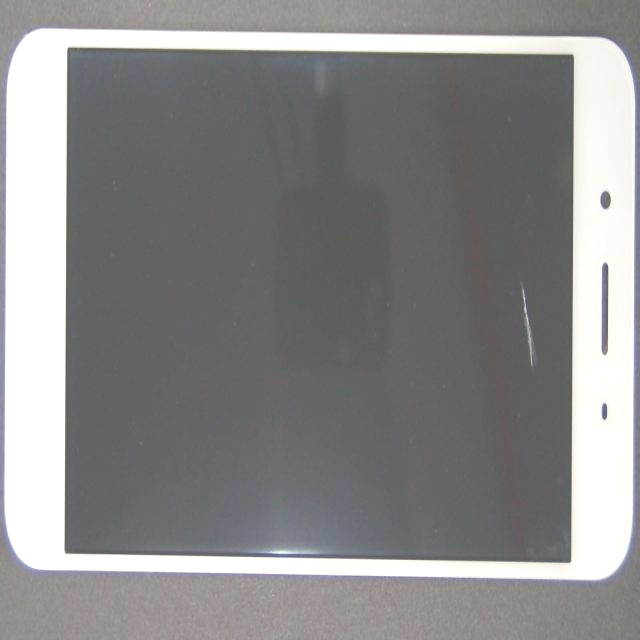scratch: (242, 79, 640, 462)
